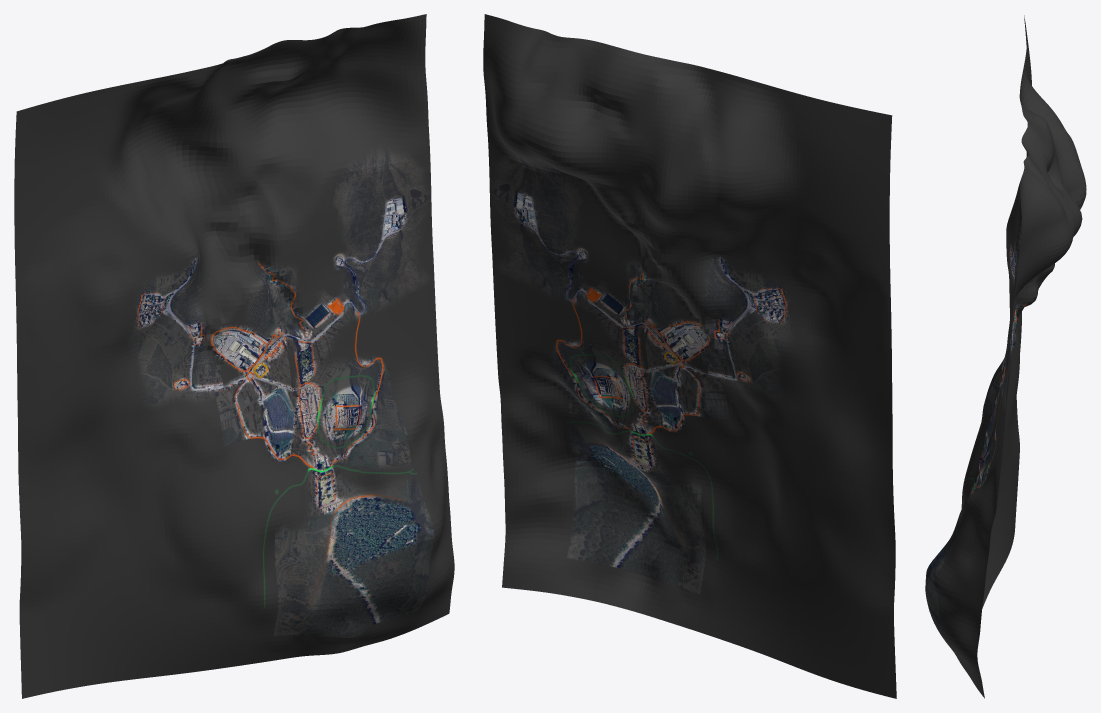
Rendered from Rute.obj.
The picture shows the model from 3 angles, left to right: view 1: azimuth 30°, elevation 25°; view 2: azimuth 150°, elevation 25°; view 3: azimuth 270°, elevation 25°; orthographic projection. The views are drawn at different scales.
Visible parts, largest first — view 1: Plane; view 2: Plane; view 3: Plane.
Boxes of the visible parts, x1,y1,x2,y2 form: Plane: (14,14,454,698); Plane: (483,14,896,698); Plane: (925,15,1086,698).
Bounding box in the file's own units: 369 × 507 × 144.
